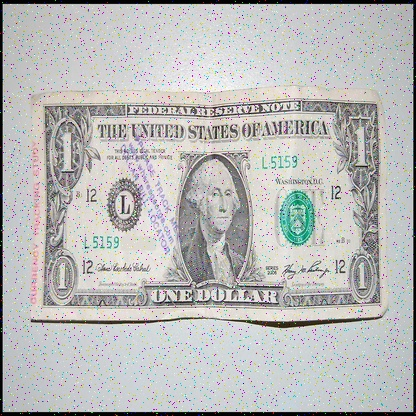one-front: (23, 90, 394, 330)
